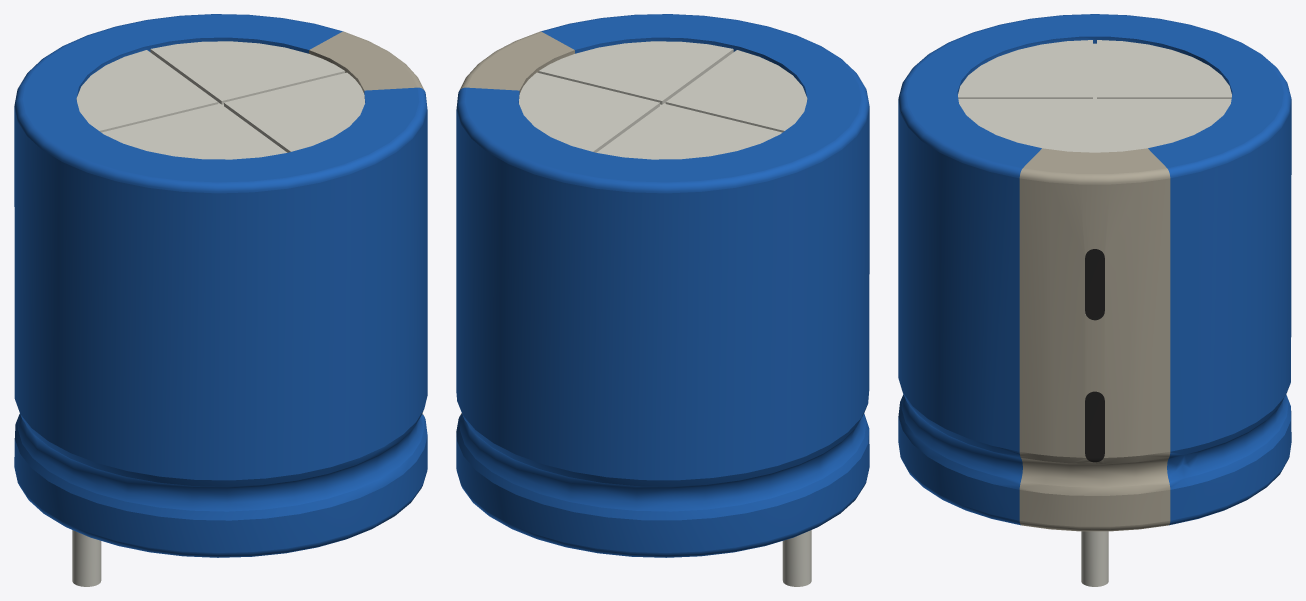
File: kc-cp_radial_d10.0mm_p7.50mm.glb
The picture shows the model from 3 angles, left to right: view 1: azimuth 30°, elevation 25°; view 2: azimuth 150°, elevation 25°; view 3: azimuth 270°, elevation 25°; orthographic projection. The views are drawn at different scales.
Parts seen in each view (by area): view 1: 0_0.16666666666666666_0.5_0, 0.6666666666666666_0.6666666666666666_0.5833333333333334_0.8, 0.4166666666666667_0.4166666666666667_0.3333333333333333_0; view 2: 0_0.16666666666666666_0.5_0, 0.6666666666666666_0.6666666666666666_0.5833333333333334_0.8, 0.4166666666666667_0.4166666666666667_0.3333333333333333_0; view 3: 0_0.16666666666666666_0.5_0, 0.4166666666666667_0.4166666666666667_0.3333333333333333_0, 0.6666666666666666_0.6666666666666666_0.5833333333333334_0.8, 0_0_0_0.
Part boxes in pixels (left/top/right/bottom): 0_0.16666666666666666_0.5_0: left=14, top=14, right=427, bottom=557; 0.6666666666666666_0.6666666666666666_0.5833333333333334_0.8: left=72, top=41, right=364, bottom=586; 0.4166666666666667_0.4166666666666667_0.3333333333333333_0: left=309, top=31, right=423, bottom=415; 0_0.16666666666666666_0.5_0: left=456, top=14, right=869, bottom=557; 0.6666666666666666_0.6666666666666666_0.5833333333333334_0.8: left=519, top=41, right=811, bottom=586; 0.4166666666666667_0.4166666666666667_0.3333333333333333_0: left=460, top=31, right=574, bottom=414; 0_0.16666666666666666_0.5_0: left=898, top=14, right=1291, bottom=525; 0.4166666666666667_0.4166666666666667_0.3333333333333333_0: left=1019, top=148, right=1170, bottom=531; 0.6666666666666666_0.6666666666666666_0.5833333333333334_0.8: left=958, top=40, right=1231, bottom=586; 0_0_0_0: left=1085, top=249, right=1104, bottom=462.
Bounding box in the file's own units: 1 × 1.2 × 0.9998.
